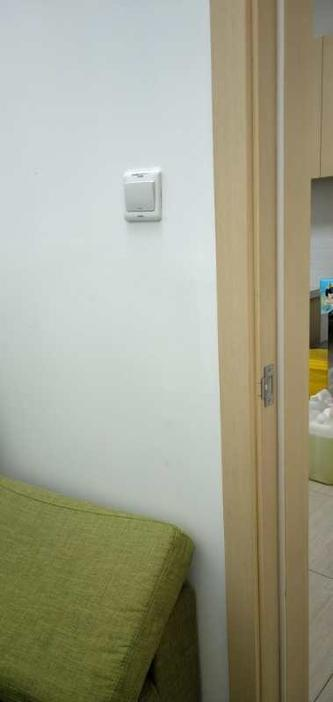switch: (123, 176, 164, 216)
